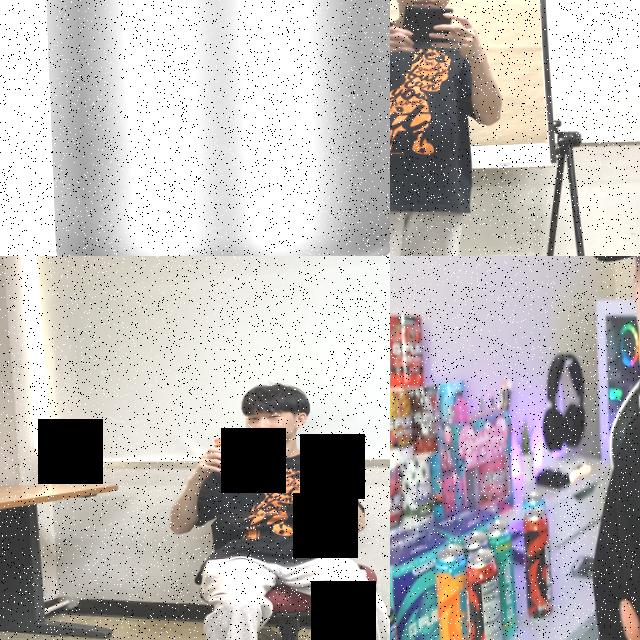can: (36, 0, 390, 256), (518, 504, 554, 624), (433, 539, 472, 640), (464, 544, 503, 640), (486, 516, 516, 638)
